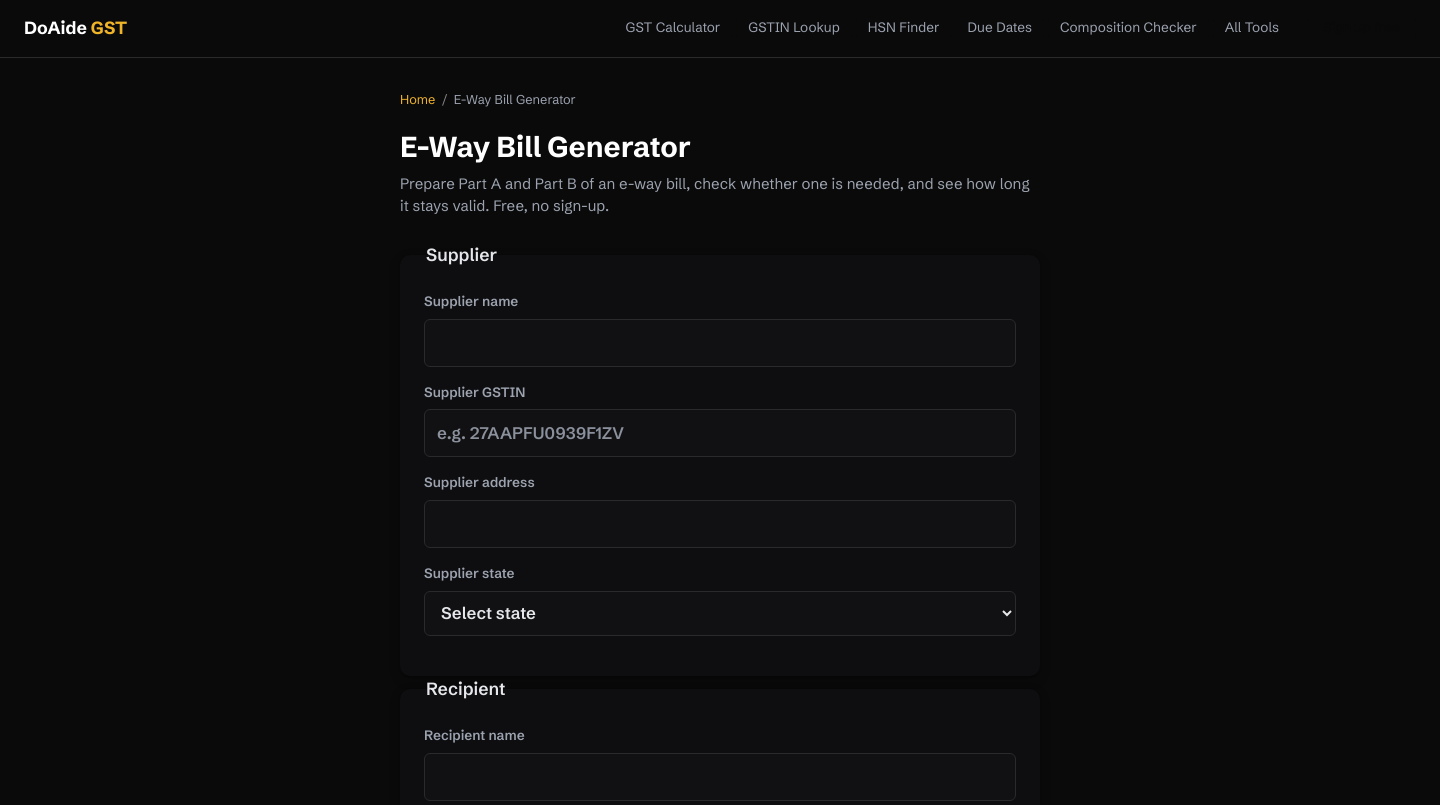
Scenario: EwayBillGeneratorPage › a same-state consignment of exactly ₹50,000 with tax needs no bill and splits CGST+SGST
The image size is (1440, 805).
In the field labelled "Supplier name": (720, 343) 424,319 -> 1016,367, type "Acme Traders"
In the field labelled "Supplier GSTIN": (720, 434) 424,410 -> 1016,458, type "27AAPFU0939F1ZV"
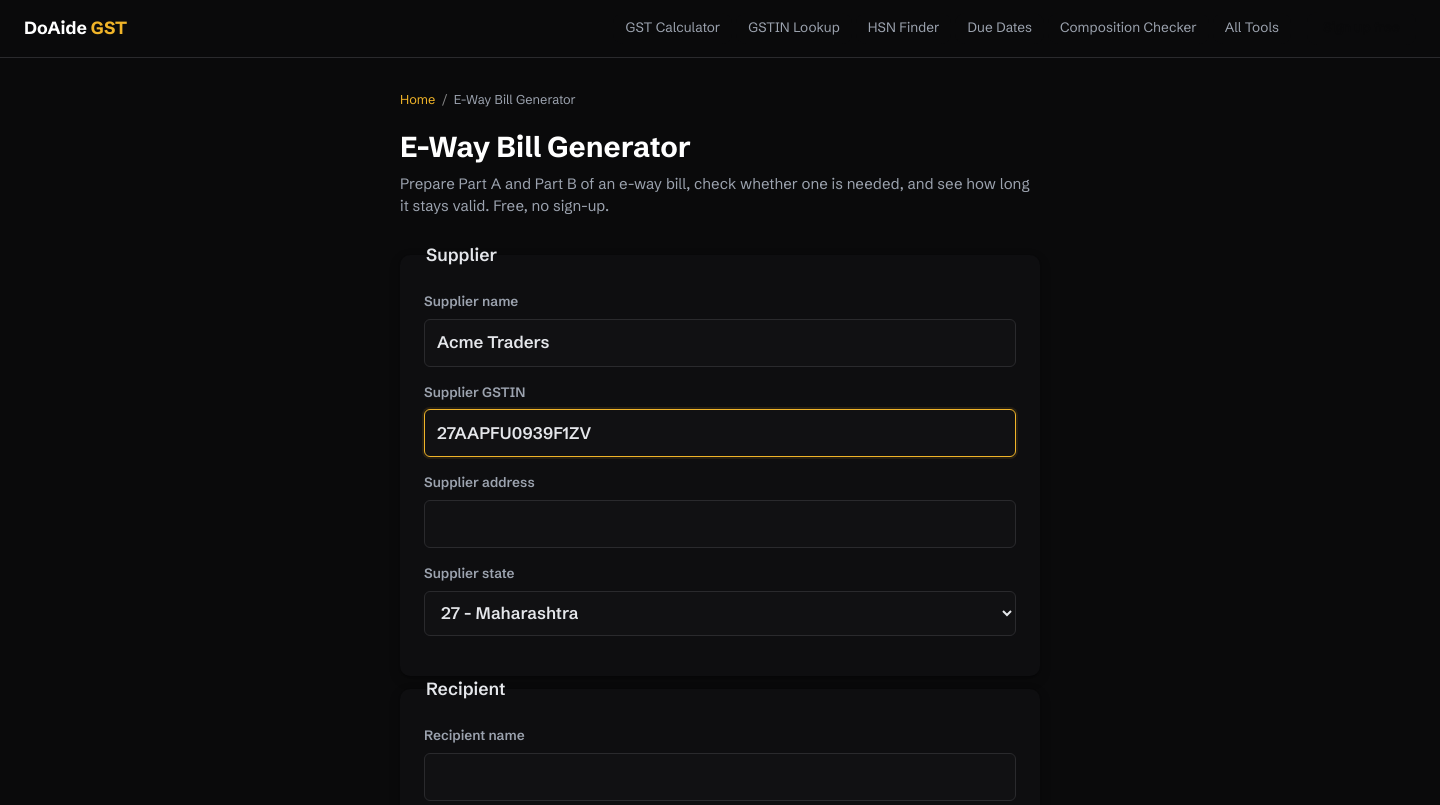
In the field labelled "Recipient name": (720, 777) 424,753 -> 1016,801, type "Bharat Stores"
(page scrolled)
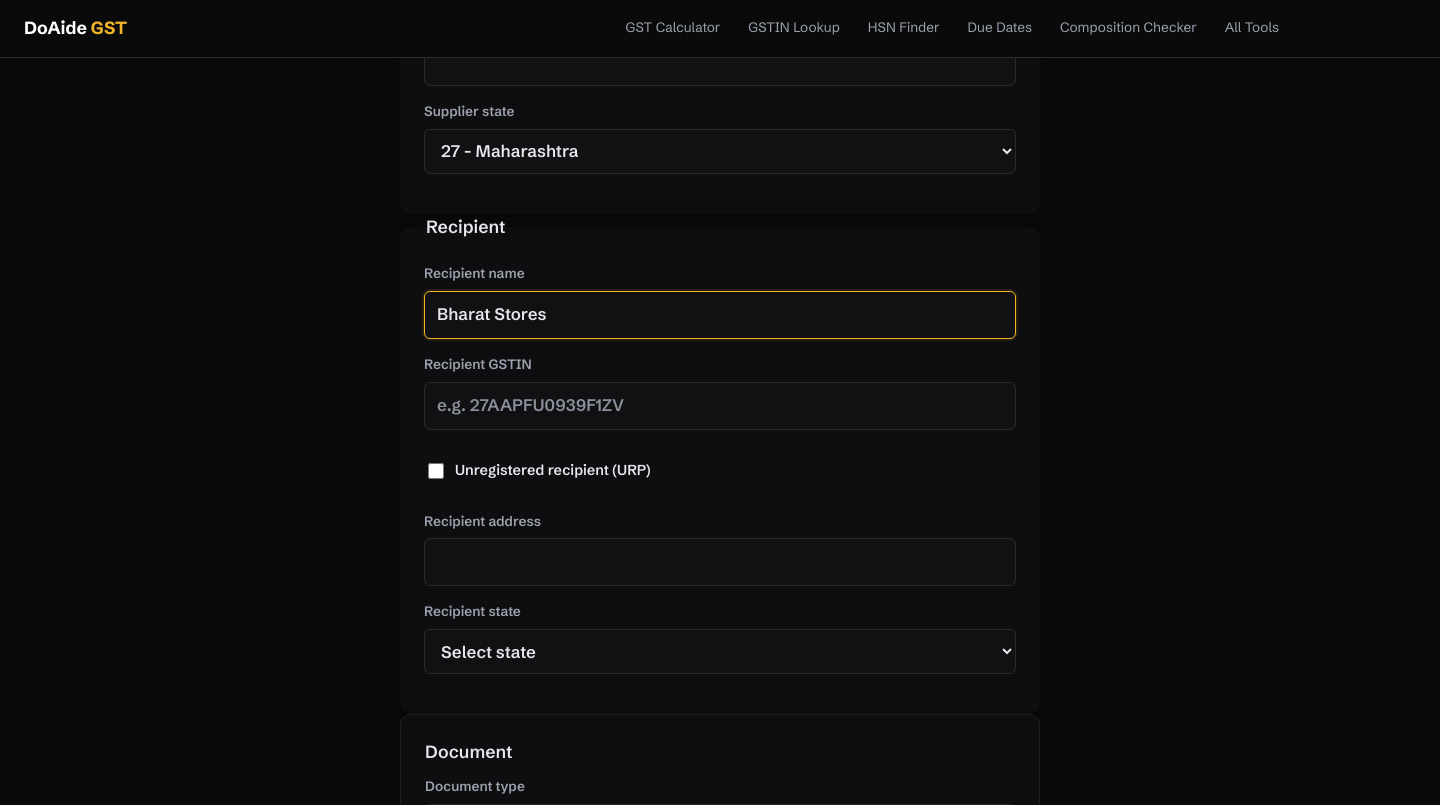
In the field labelled "Recipient GSTIN": (720, 406) 424,382 -> 1016,430, type "27AABCU9603R1ZX"
(page scrolled)
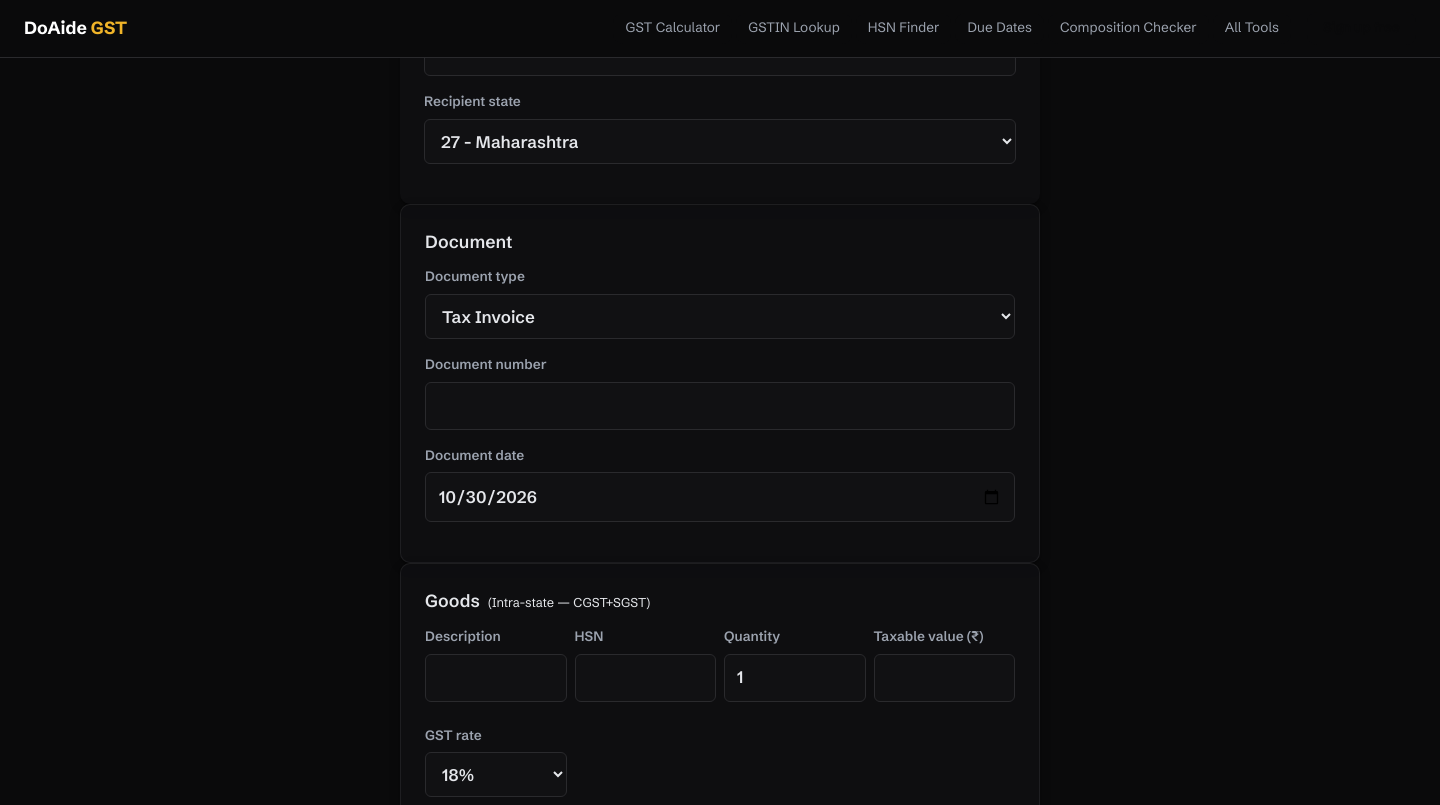
In the field labelled "Document number": (720, 406) 425,382 -> 1015,430, type "INV-001"
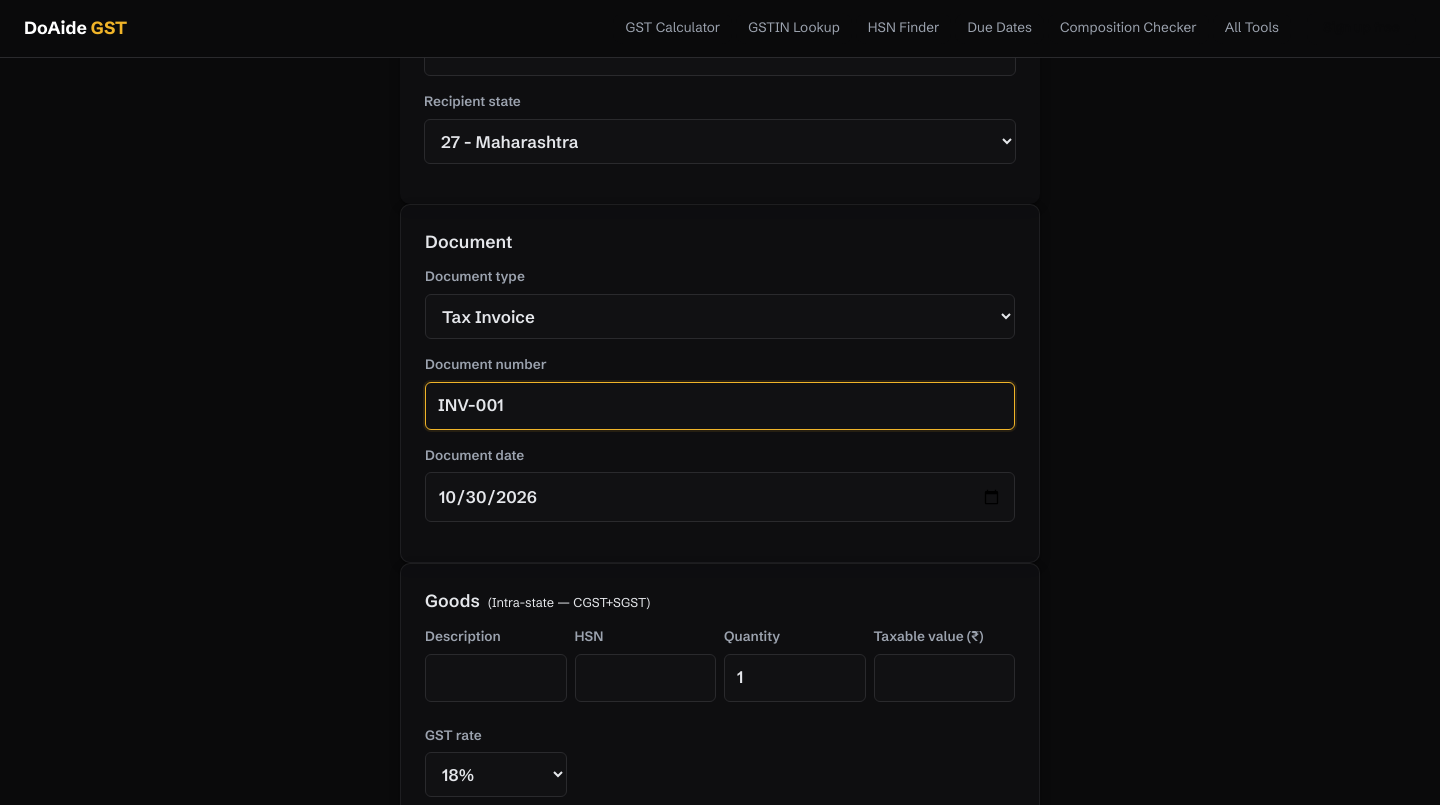
Select "0%" in the dropdown labelled "GST rate": (496, 775) 425,752 -> 566,797
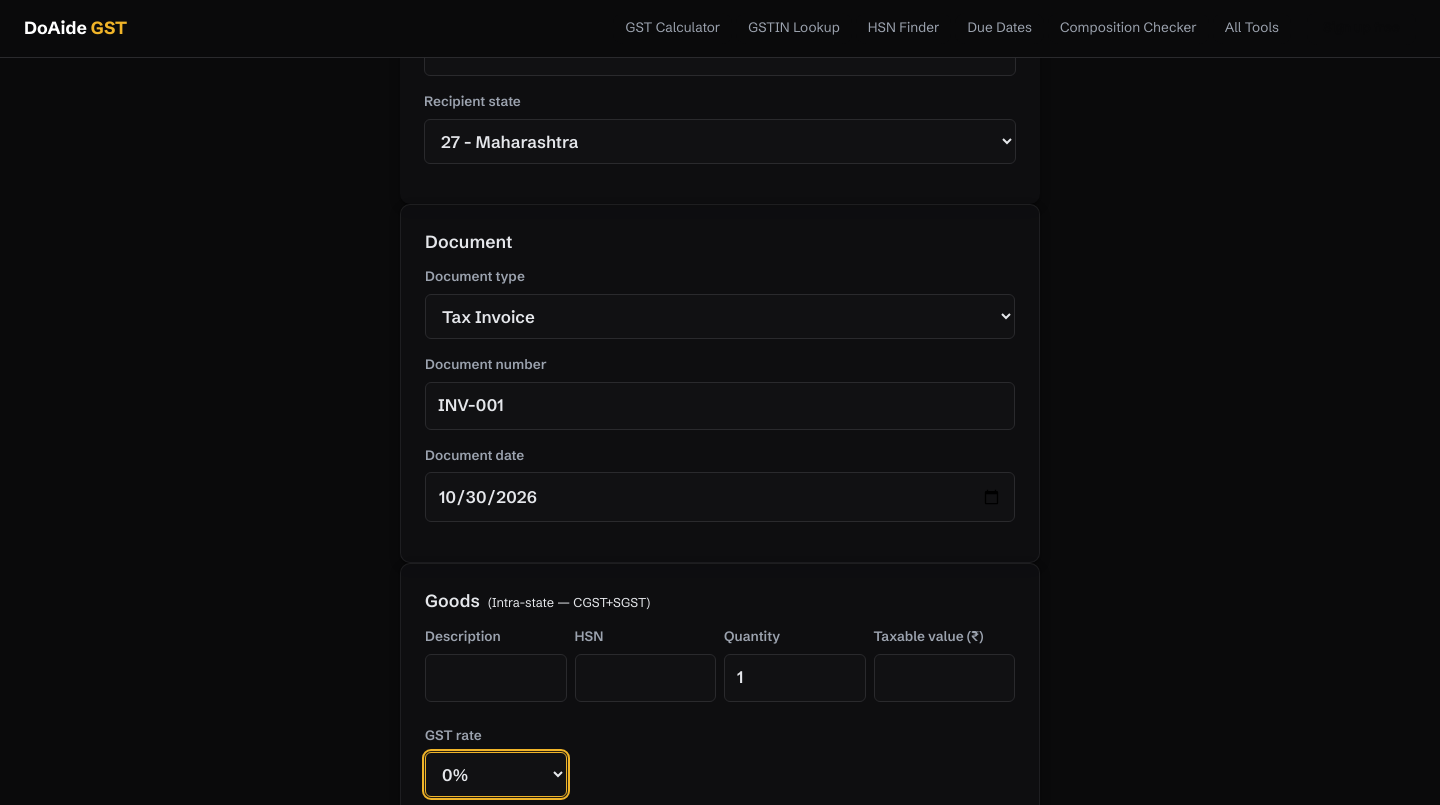
In the number field labelled "Taxable value (₹)": (944, 678) 874,654 -> 1015,702, type "50000"
(page scrolled)
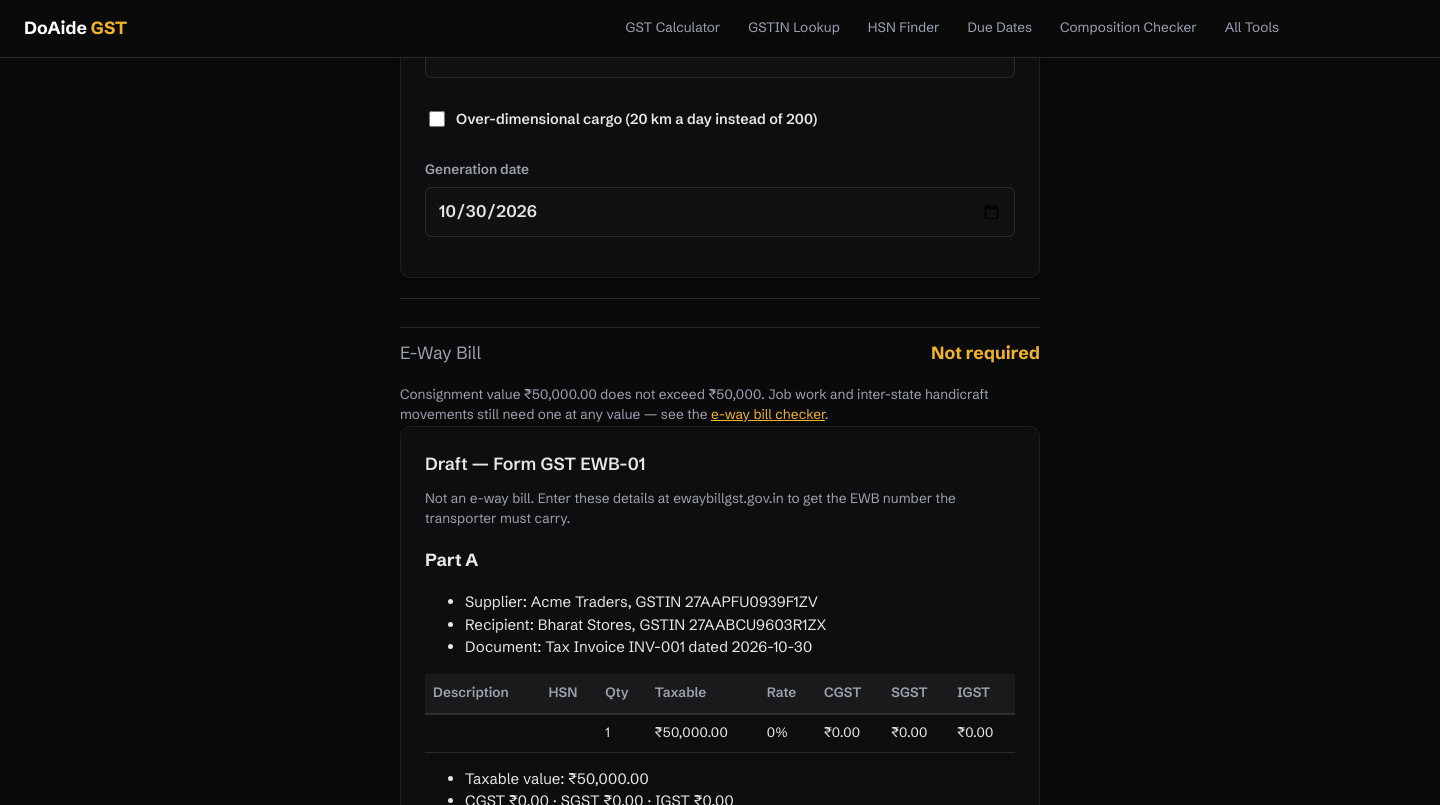
Now the text "Not required" is shown, box 931,340 -> 1040,366
Now the text "does not exceed ₹50,000" is shown, box 400,385 -> 1040,426
